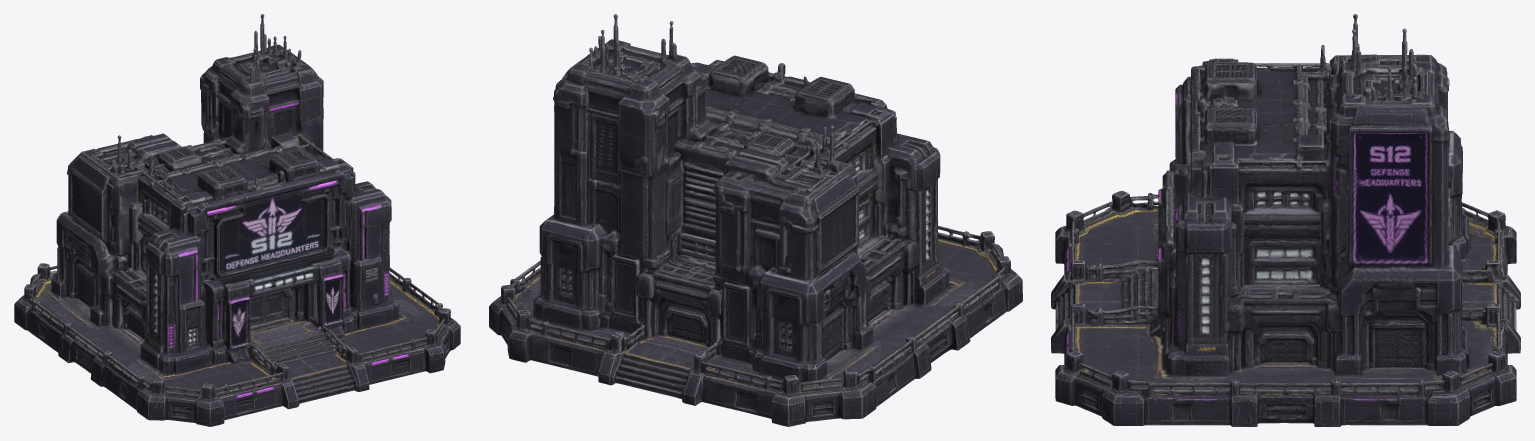
The model's file is s12DefenseHeadquarters_LOD1.glb.
3 views of the same model, side by side, from view 1: azimuth 30°, elevation 25°; view 2: azimuth 150°, elevation 25°; view 3: azimuth 270°, elevation 25° (orthographic). The views are drawn at different scales.
Visible parts, largest first — view 1: Mesh_0.006; view 2: Mesh_0.006; view 3: Mesh_0.006.
Part boxes in pixels (<box>): Mesh_0.006: <box>14,14,460,426</box>; Mesh_0.006: <box>489,14,1022,426</box>; Mesh_0.006: <box>1051,14,1520,426</box>.
Bounding box in the file's own units: 1.9 × 1.54 × 1.9.
Materials: 1 (1 with a texture image).
